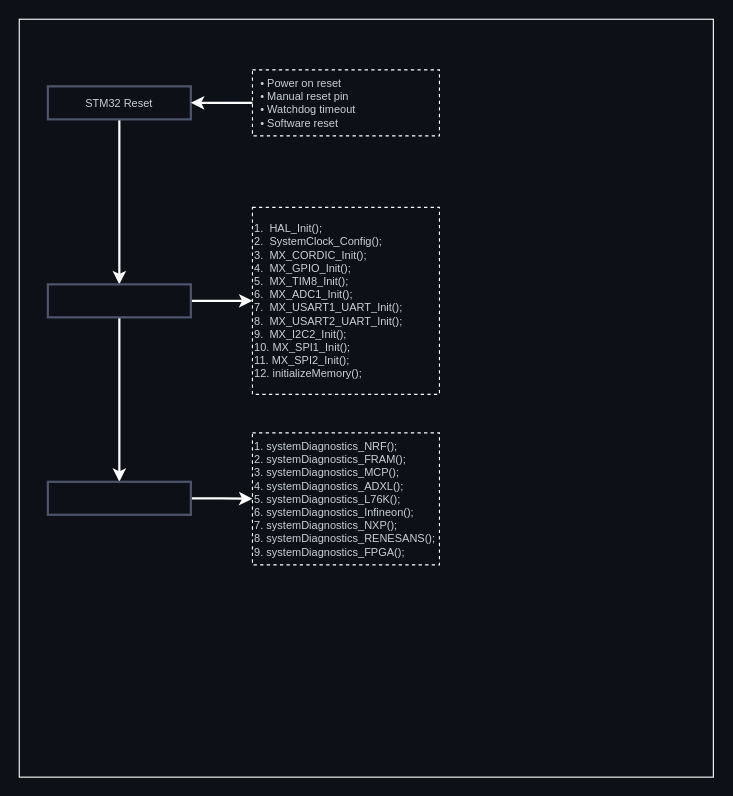
Image size: 733x796. Some labels were removed from this diagram. Each missing label, with the centre of its shape:
"void initializeSystem();" belongs at point (118, 300).
"void systemDiagnostics();" belongs at point (118, 497).
